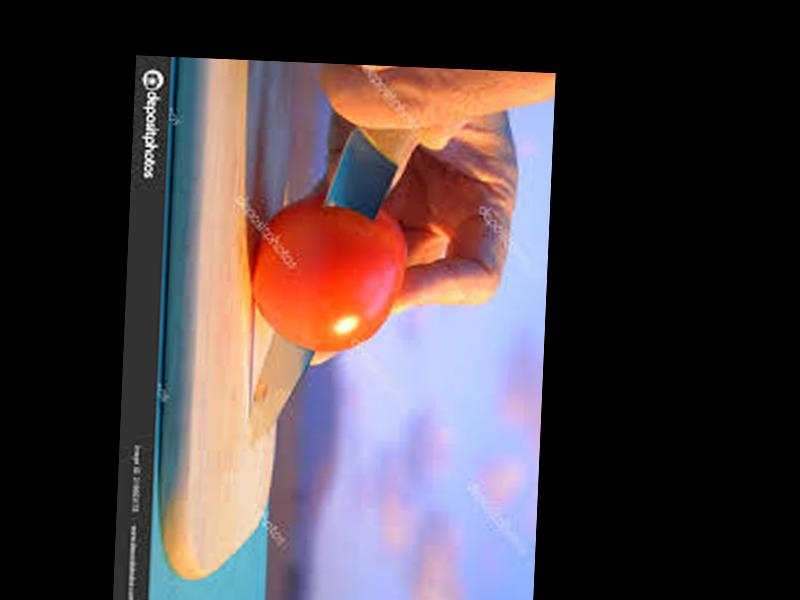Tomato: (246, 192, 406, 356)
